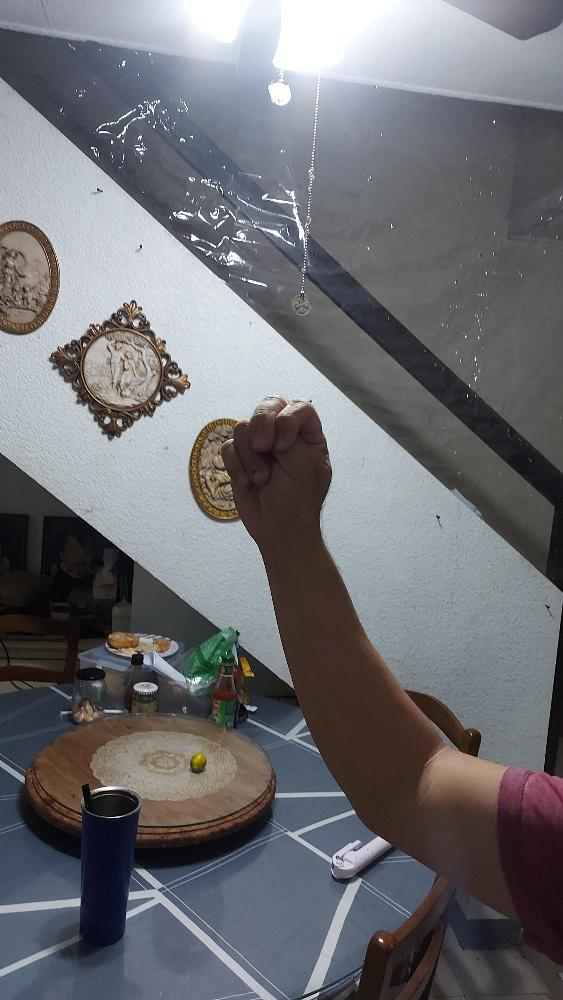n: (219, 393, 331, 544)
